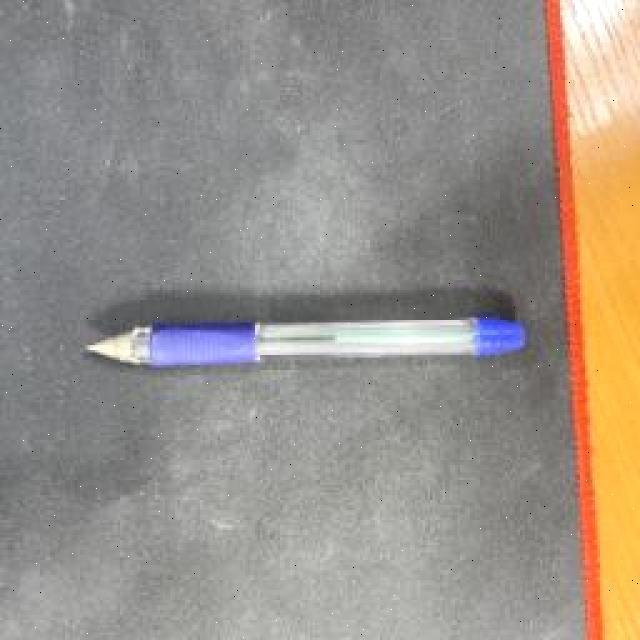pen: (88, 318, 528, 368)
